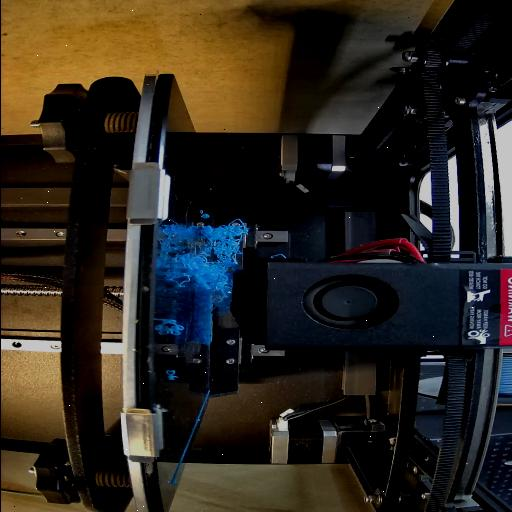spaghetti: (188, 224, 234, 300), (166, 317, 186, 339)
